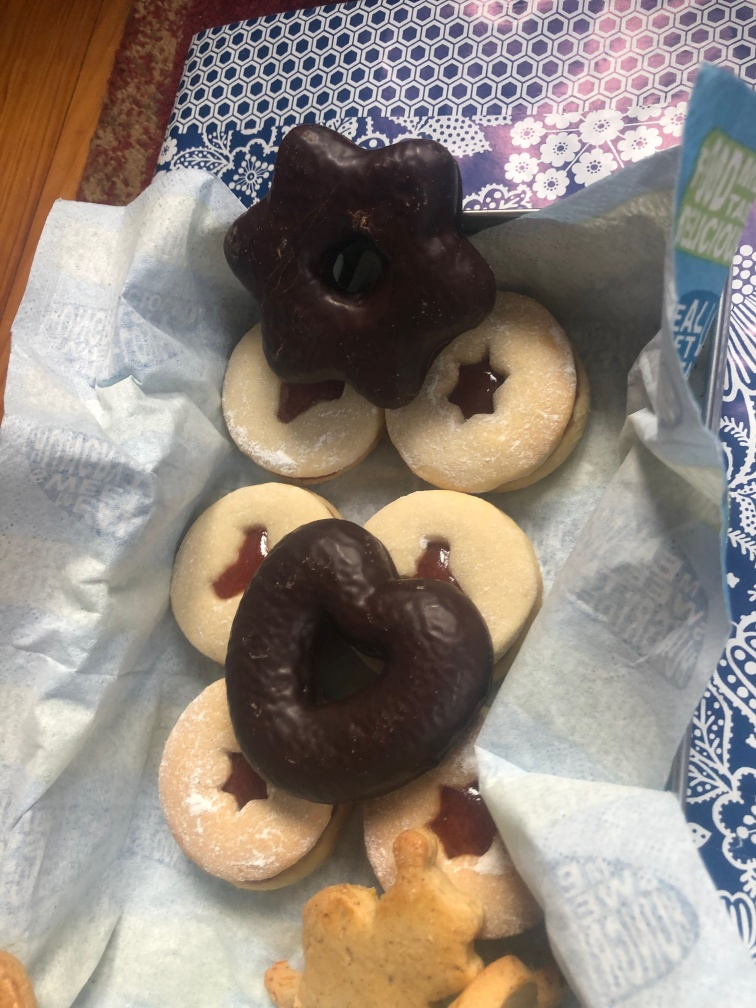christmas shortbread with jam: (383, 284, 590, 494), (156, 671, 336, 889), (366, 488, 547, 666), (165, 478, 334, 662), (222, 315, 381, 481)
heart: (224, 517, 496, 811)
santa claus: (264, 822, 483, 1008)
star: (224, 124, 493, 410)
